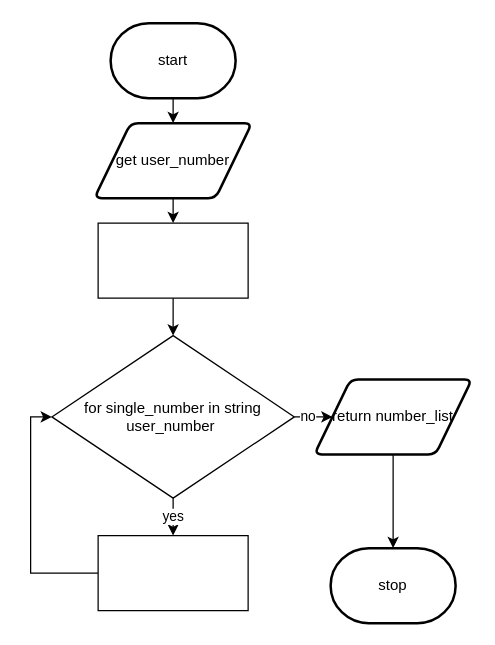
This 495x645 diagram has some shape labels left out. The centre of each missing label's shape, as x and y in pixels:
"number_list.append signle_number" goes at (172,572).
"single_number = 0" goes at (172,260).
